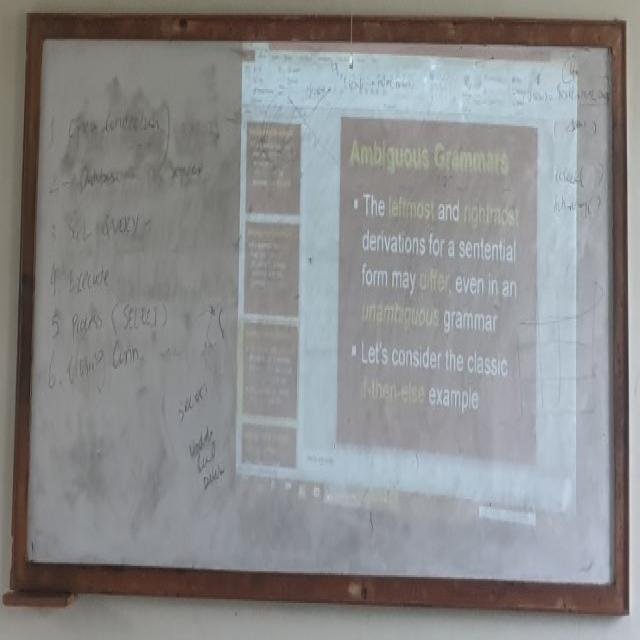Slide: (228, 27, 577, 538)
White-board: (17, 20, 619, 601)
